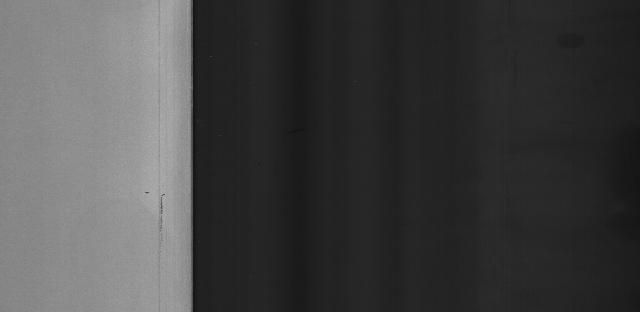inclusion: (156, 187, 168, 284), (142, 187, 152, 199)
